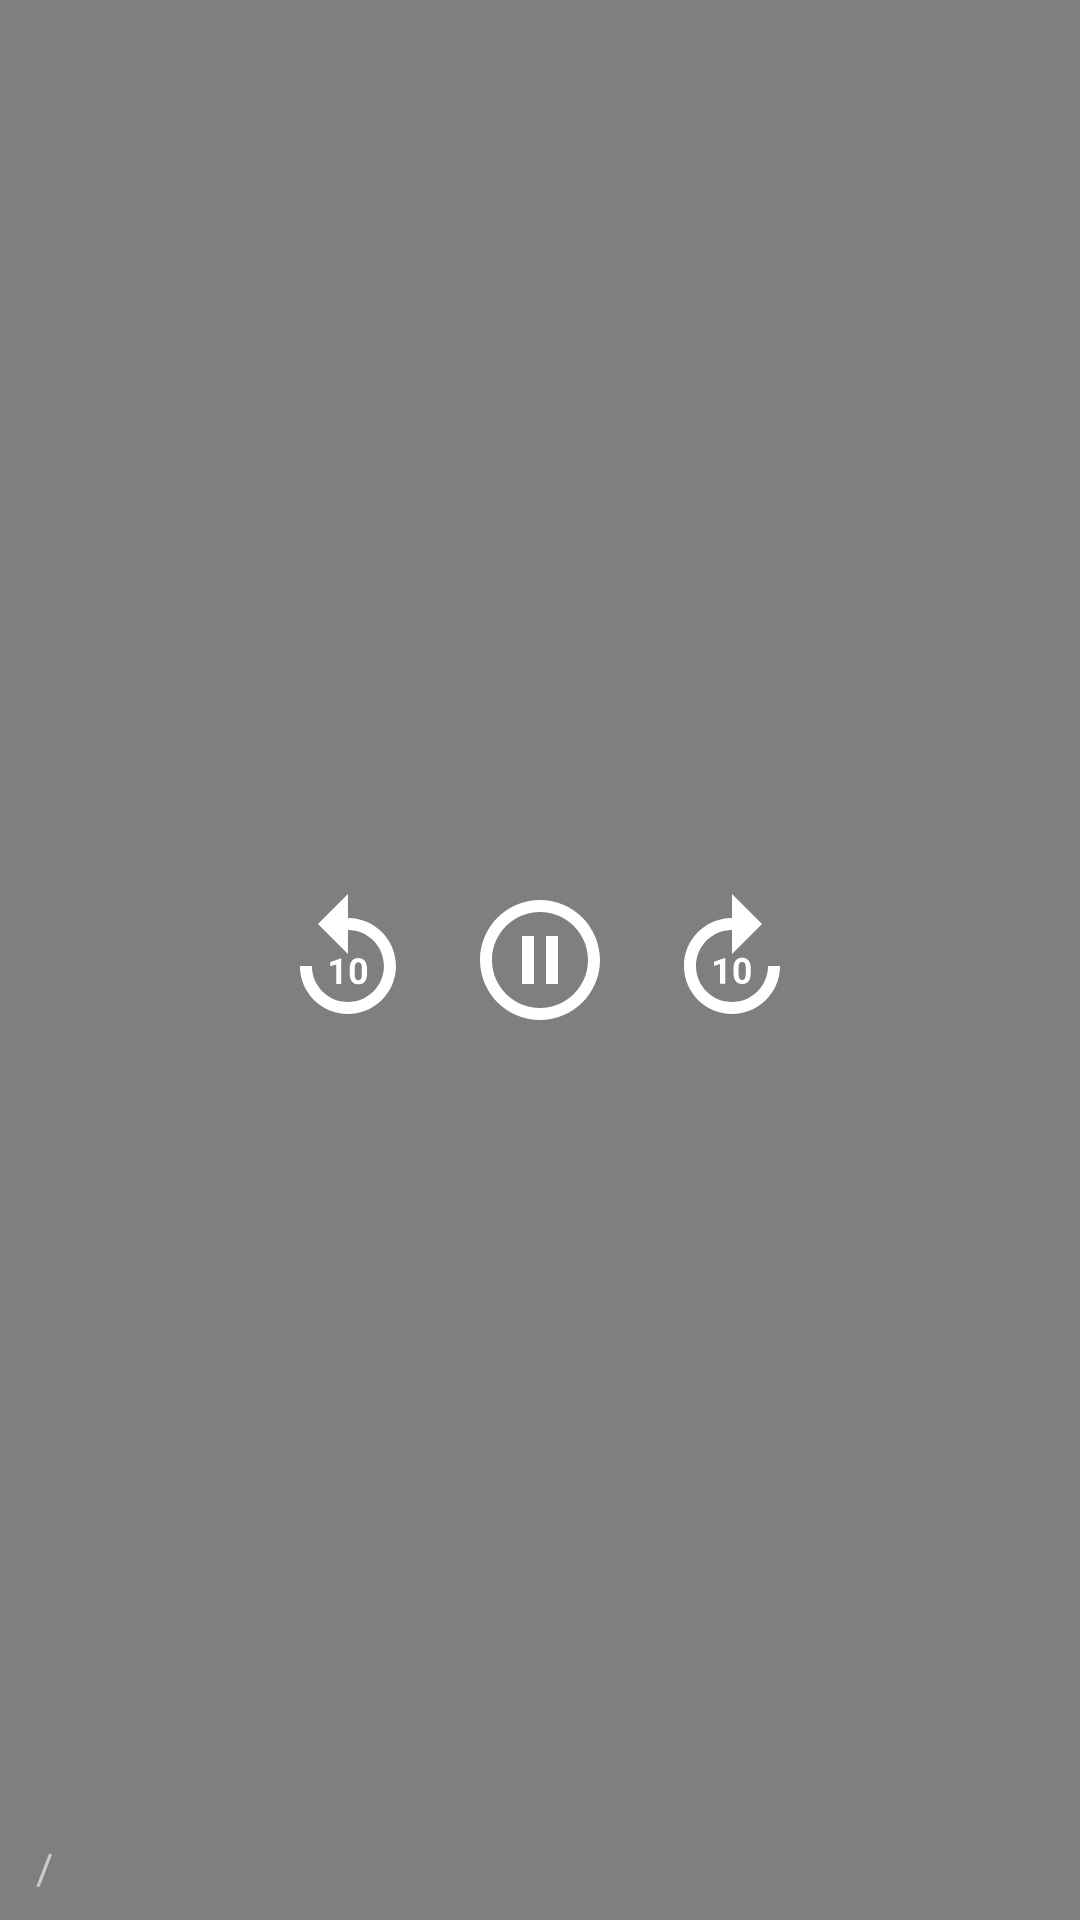

Named icons in this screenshot (1080×1920) and their bounding boxes, (x1, y1, x2, y2):
fast: (684, 894, 780, 1014)
pause: (480, 900, 600, 1020)
rew: (300, 894, 396, 1014)
